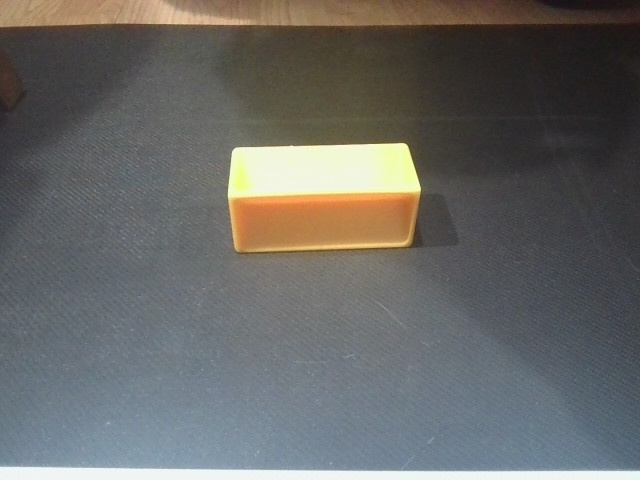YellowSample: (224, 139, 427, 253)
